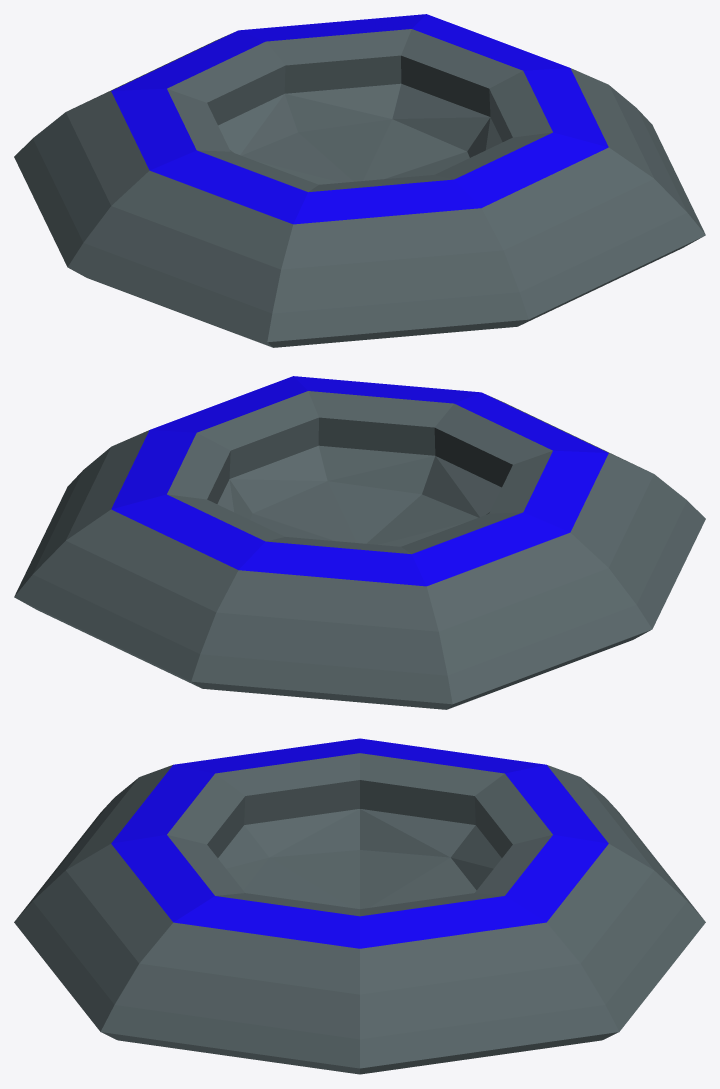
The model's file is SwitchBlue.fbx.
3 renders of one model, top to bottom at view 1: azimuth 30°, elevation 25°; view 2: azimuth 150°, elevation 25°; view 3: azimuth 270°, elevation 25°, orthographic. The views are drawn at different scales.
Visible parts, largest first — view 1: SwitchBlue; view 2: SwitchBlue; view 3: SwitchBlue.
Part boxes in pixels (x1,y1,x2,y2): SwitchBlue: [14, 14, 705, 347]; SwitchBlue: [14, 376, 705, 709]; SwitchBlue: [14, 738, 705, 1074].
Bounding box in the file's own units: 285 × 57.93 × 285.
